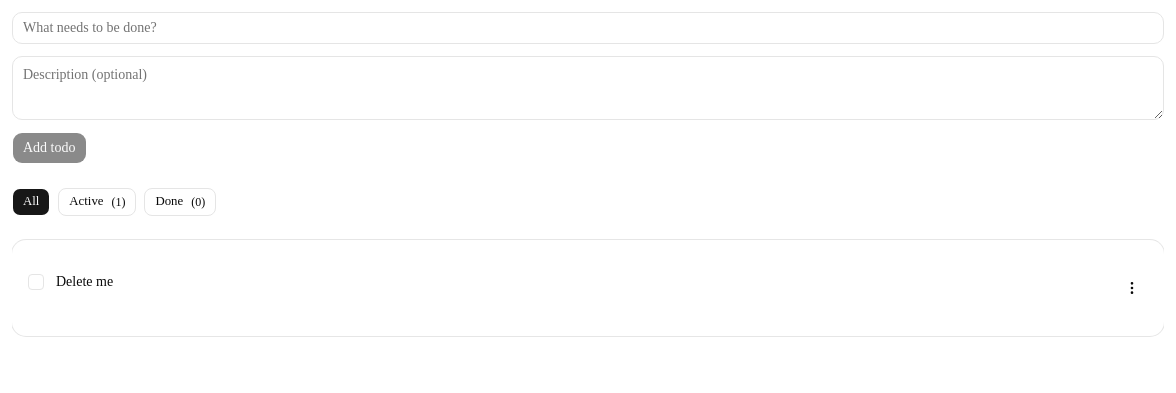
Test: TodoList › removes a todo after delete
The width and height of the screenshot is (1176, 393).
expect the text "Delete me" is shown: met, box [56,274,113,289]
Click the 5th button.
click(1132, 288)  # box [1116,272,1148,304]
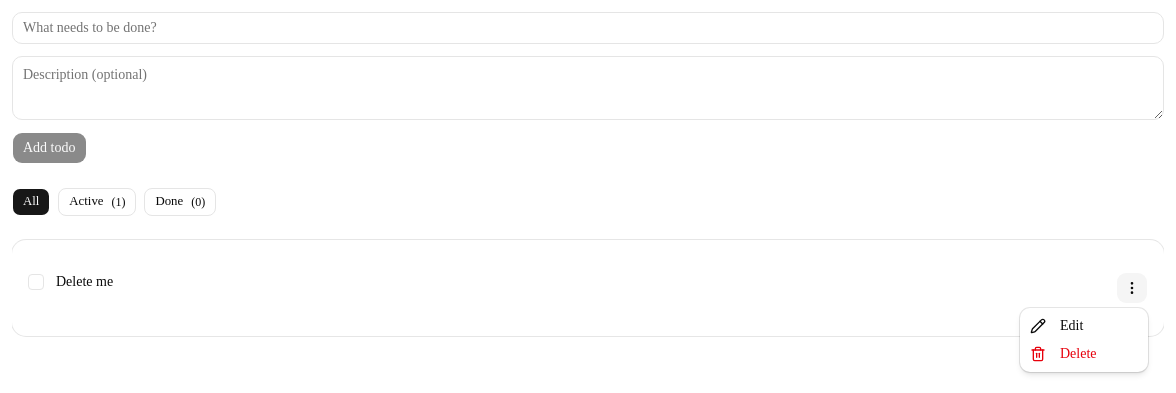
Click the menu item "Delete".
click(1063, 354)  # box [1030,346,1096,362]
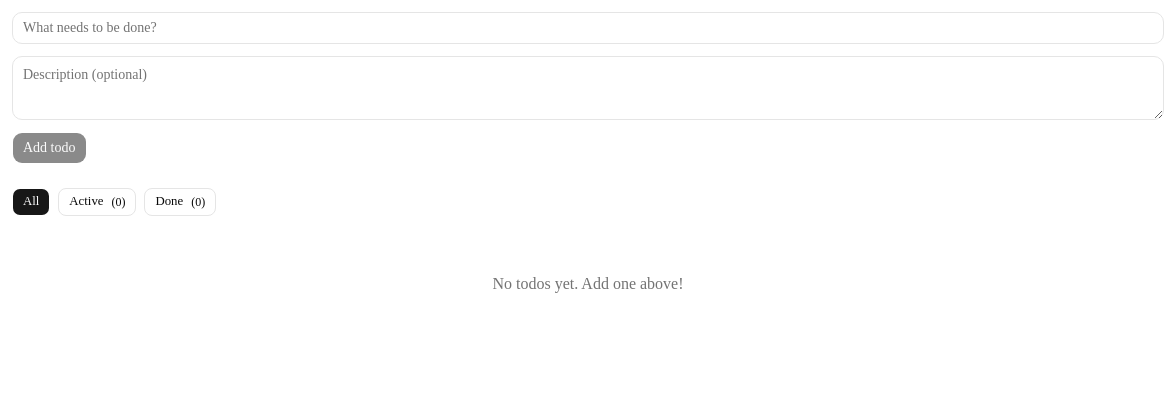
expect the text "Delete me" is gone: met
